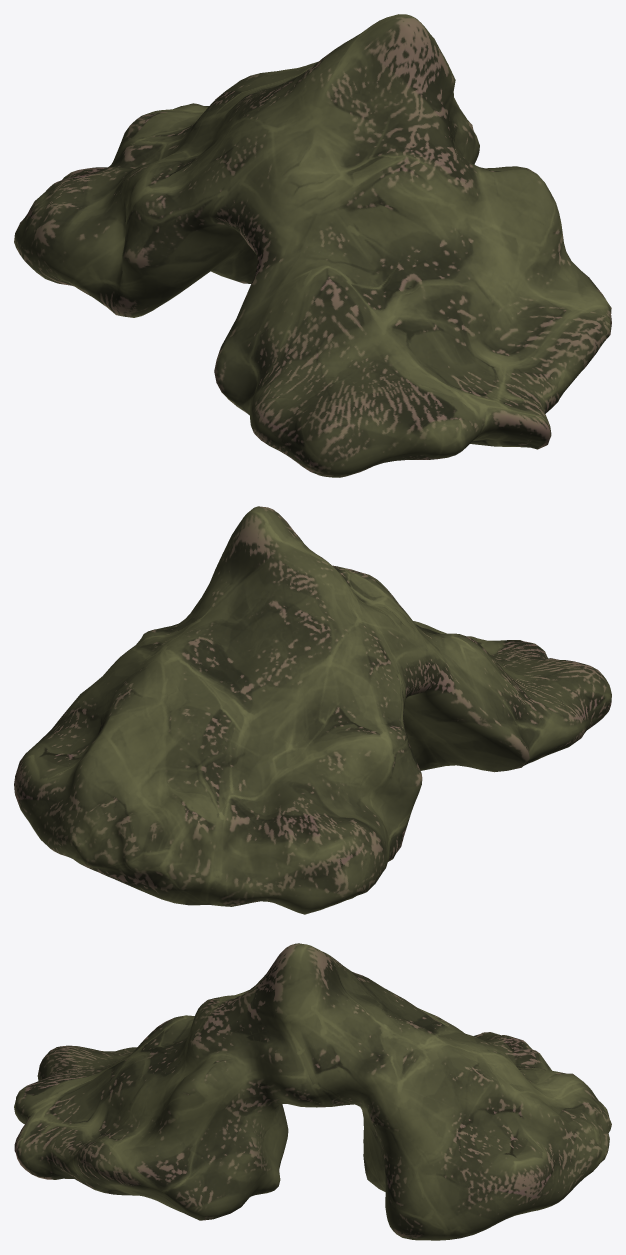
The model's file is underwater_rock_tunnel.glb.
The picture shows the model from 3 angles, top to bottom: view 1: azimuth 30°, elevation 25°; view 2: azimuth 150°, elevation 25°; view 3: azimuth 270°, elevation 25°; orthographic projection. The views are drawn at different scales.
Parts seen in each view (by area): view 1: Volume10; view 2: Volume10; view 3: Volume10.
Part boxes in pixels (x1,y1,x2,y2): Volume10: (14,14,611,477); Volume10: (14,506,611,914); Volume10: (14,943,611,1240).
Bounding box in the file's own units: 377 × 271 × 586.
Materials: 1 (1 with a texture image).
